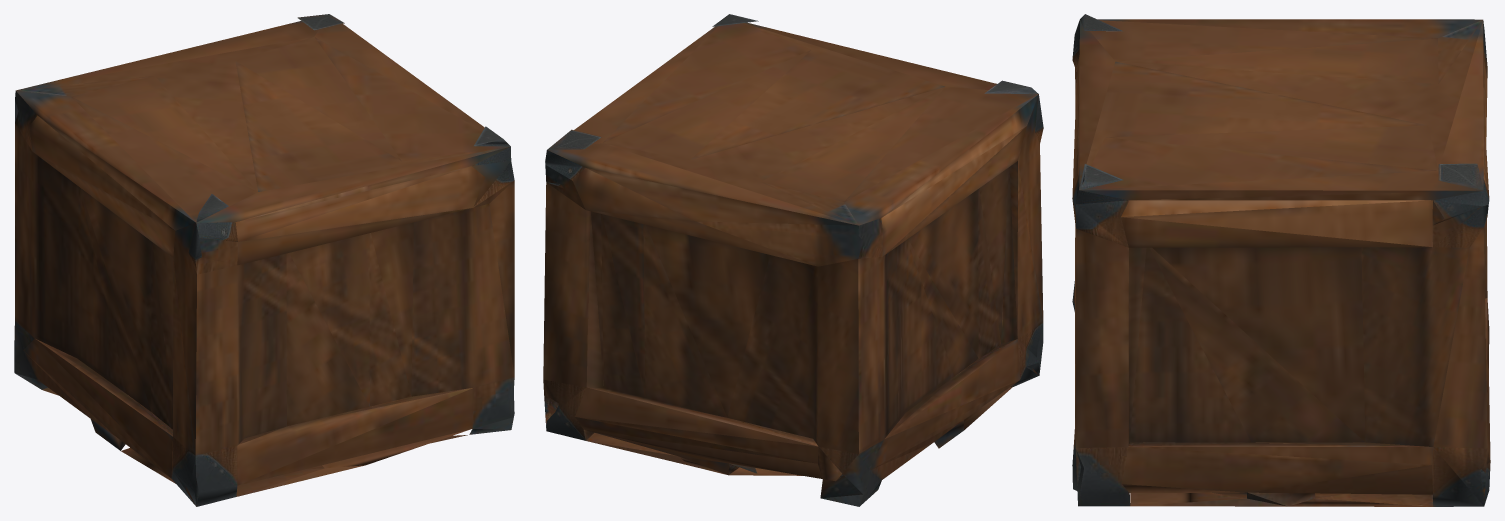
Rendered from crate.glb.
The picture shows the model from 3 angles, left to right: view 1: azimuth 30°, elevation 25°; view 2: azimuth 150°, elevation 25°; view 3: azimuth 270°, elevation 25°; orthographic projection. The views are drawn at different scales.
Parts seen in each view (by area): view 1: environment-crate, environment-crate-background; view 2: environment-crate, environment-crate-background; view 3: environment-crate, environment-crate-background.
Part boxes in pixels (x1=…): environment-crate: x1=14, y1=14, x2=514, y2=506; environment-crate-background: x1=15, y1=91, x2=514, y2=505; environment-crate: x1=543, y1=14, x2=1043, y2=506; environment-crate-background: x1=543, y1=94, x2=1042, y2=481; environment-crate: x1=1072, y1=14, x2=1490, y2=506; environment-crate-background: x1=1075, y1=25, x2=1488, y2=505.
Bounding box in the file's own units: 28 × 24 × 28.
1 material, 1 textured.
